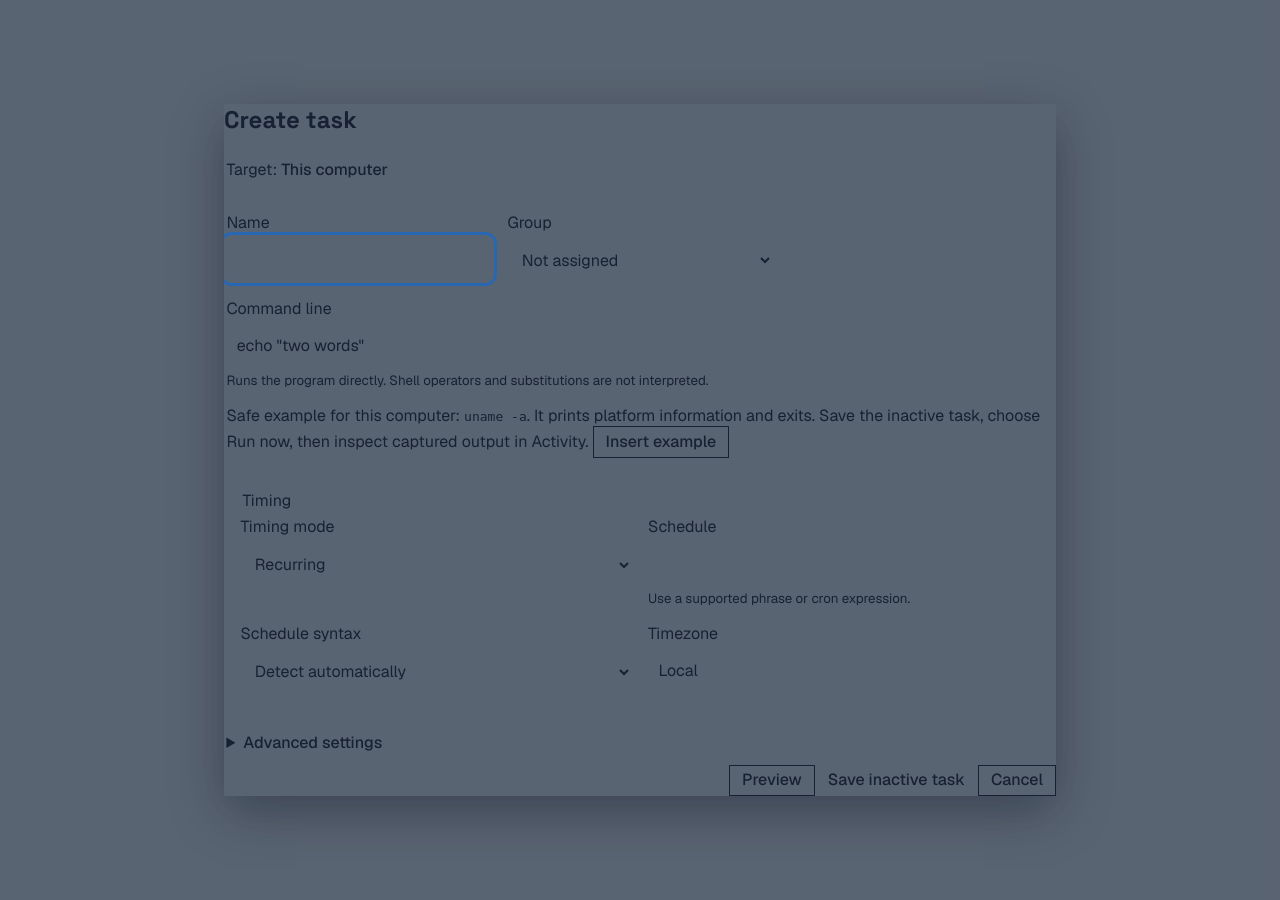
Scenario: task editor › exposes complete basic and advanced intent and previews the exact command boundary
Step 1. Click the heading "Advanced settings" → (313,742), box x1=243 y1=732 x2=382 y2=753
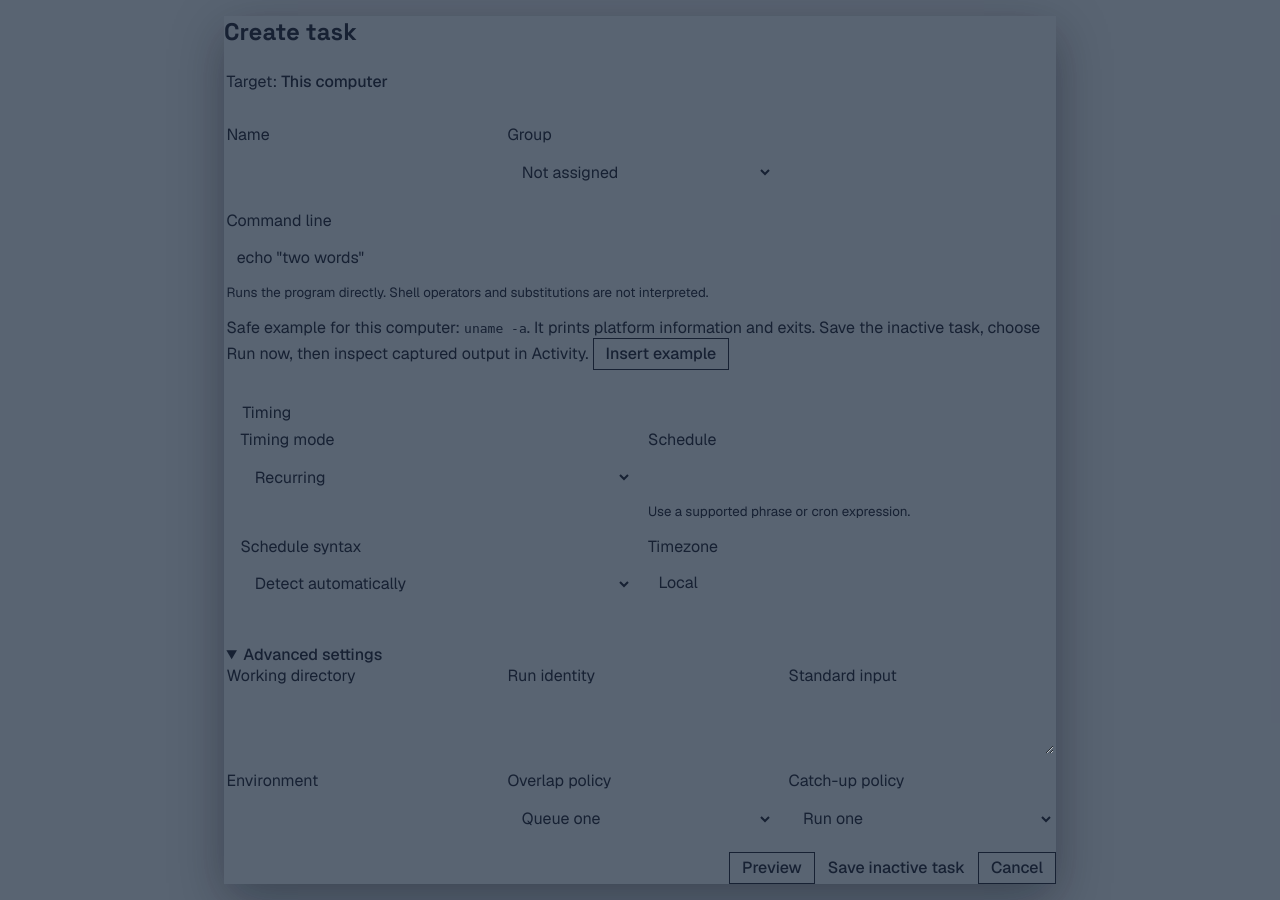
Expected: the text box labelled "Standard input" is shown, x1=788 y1=692 x2=1054 y2=754
Expected: the dropdown labelled "Overlap policy" is shown, x1=508 y1=797 x2=773 y2=841
Expected: the dropdown labelled "Catch-up policy" is shown, x1=788 y1=797 x2=1054 y2=841
Step 2. Click the button "Preview" → (772,868), box x1=729 y1=852 x2=815 y2=884
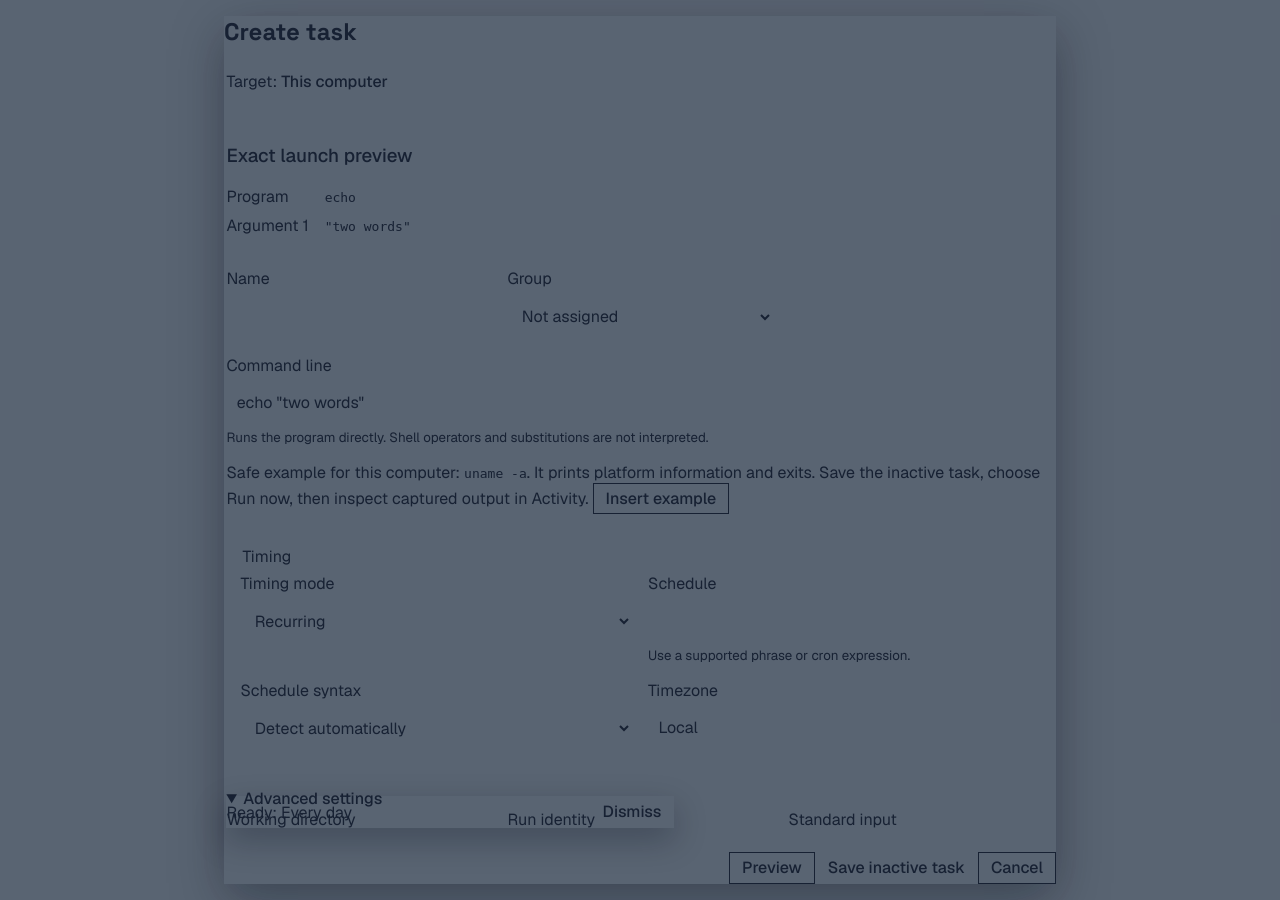
Expected: the heading "Exact launch preview" is shown, x1=226 y1=143 x2=412 y2=168
Expected: the text "two words" is shown, x1=325 y1=219 x2=411 y2=234
